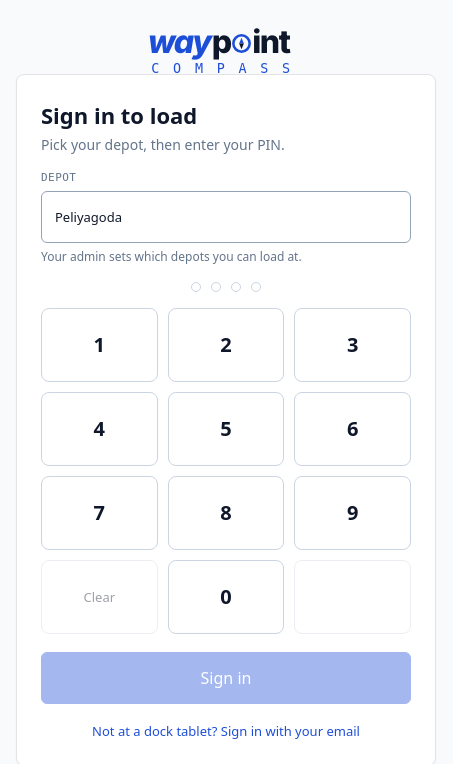
Test: L1 Sign in · dock › says what a wrong PIN means and clears the keypad
Click the button "1" at (99, 345), box [41,308,158,382]
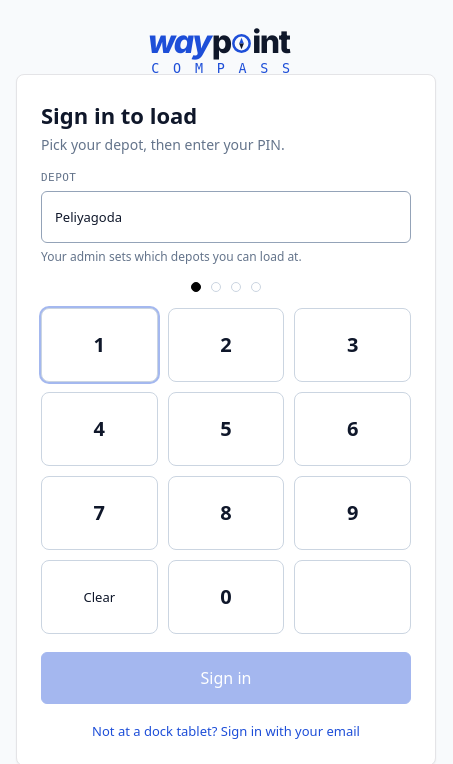
Click the button "1" at (99, 345), box [41,308,158,382]
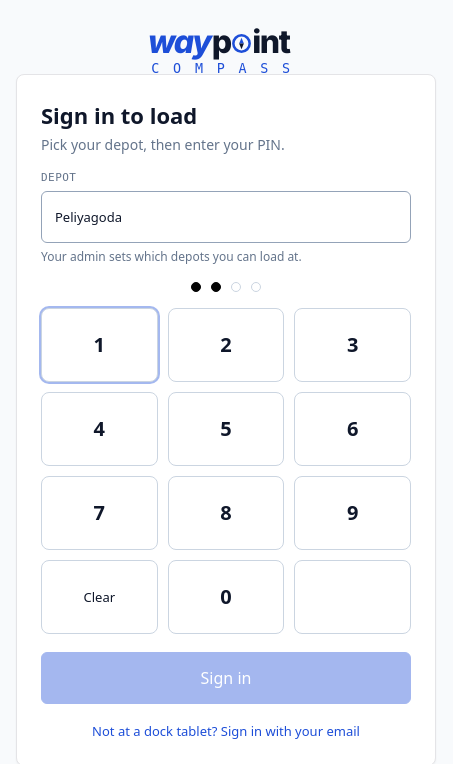
Click the button "1" at (99, 345), box [41,308,158,382]
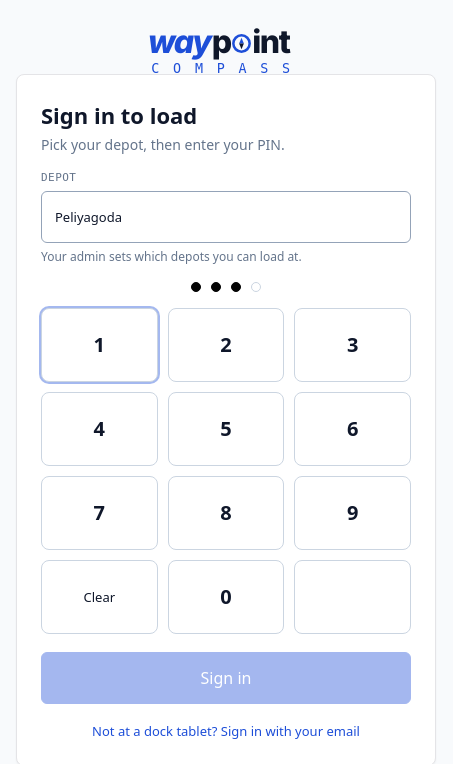
Click the button "1" at (99, 345), box [41,308,158,382]
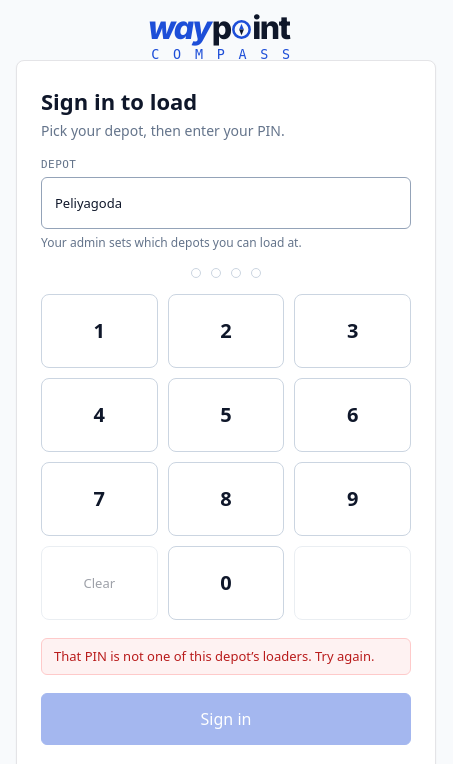
Expected: the button "Sign in" is disabled, [41,693,411,745]
Expected: the message "That PIN is not one of this depot’s loaders. Try again." is shown, [41,638,411,675]
Expected: the message named "0 of 4 digits entered" is shown, [191,268,261,278]
